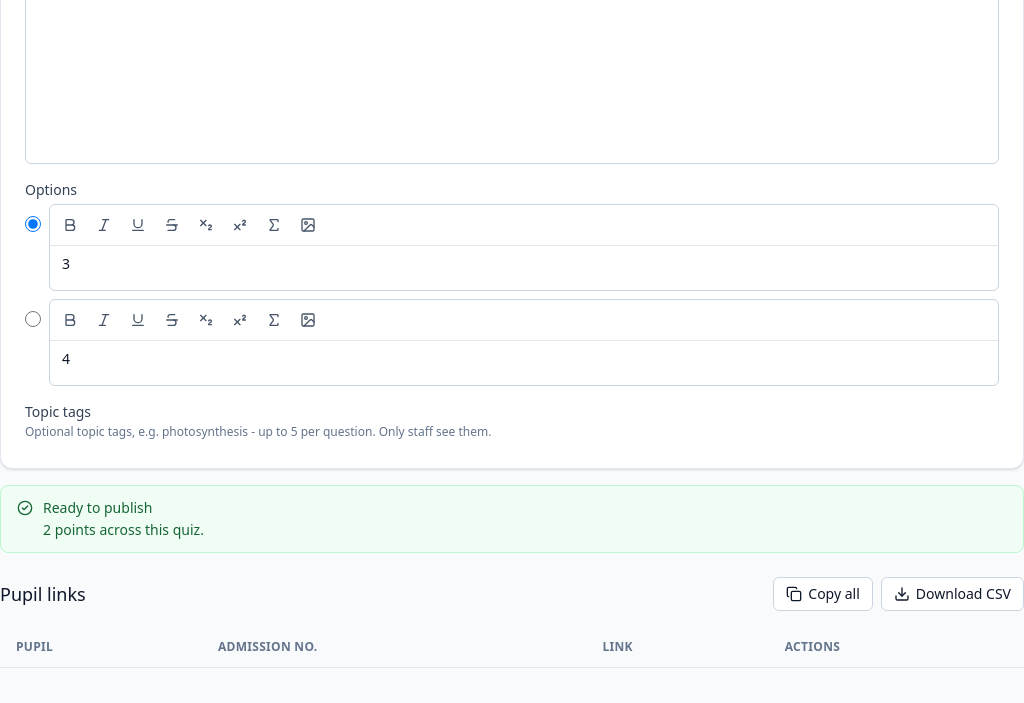
TakeHomeQuizEditorPage - correcting the answer key once pupils have submitted › confirms a wording-only correction without re-scoring
(page scrolled)
Click the radio button named "Option 2 is correct": [33, 319] box [25,311,41,327]
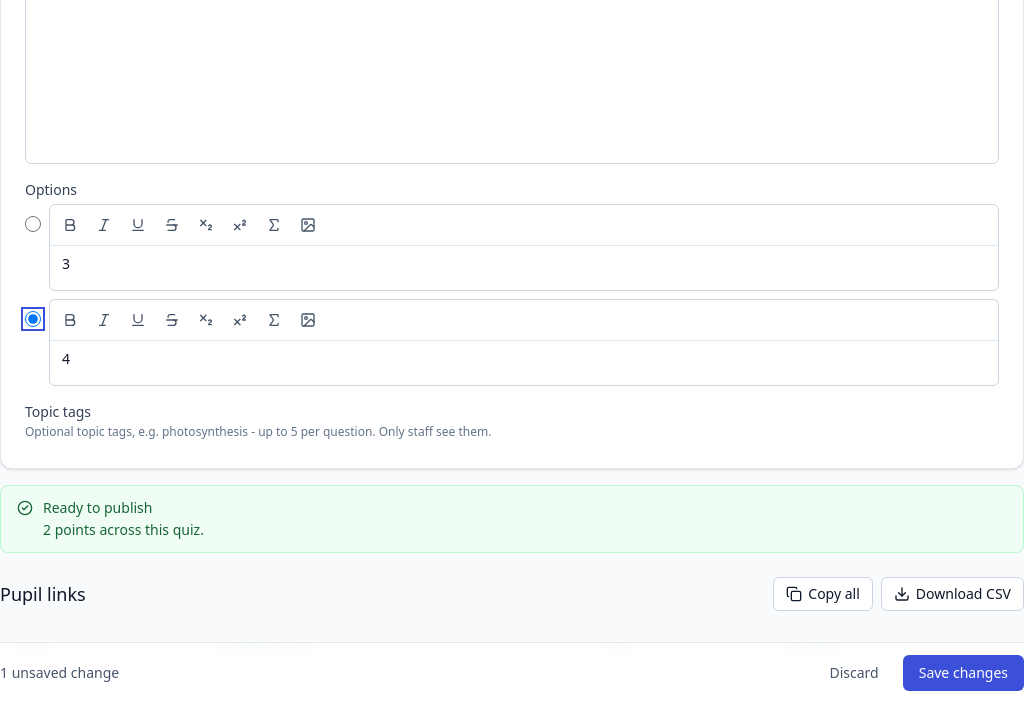
Click the button "Save changes": [963, 673] box [903,655,1023,691]
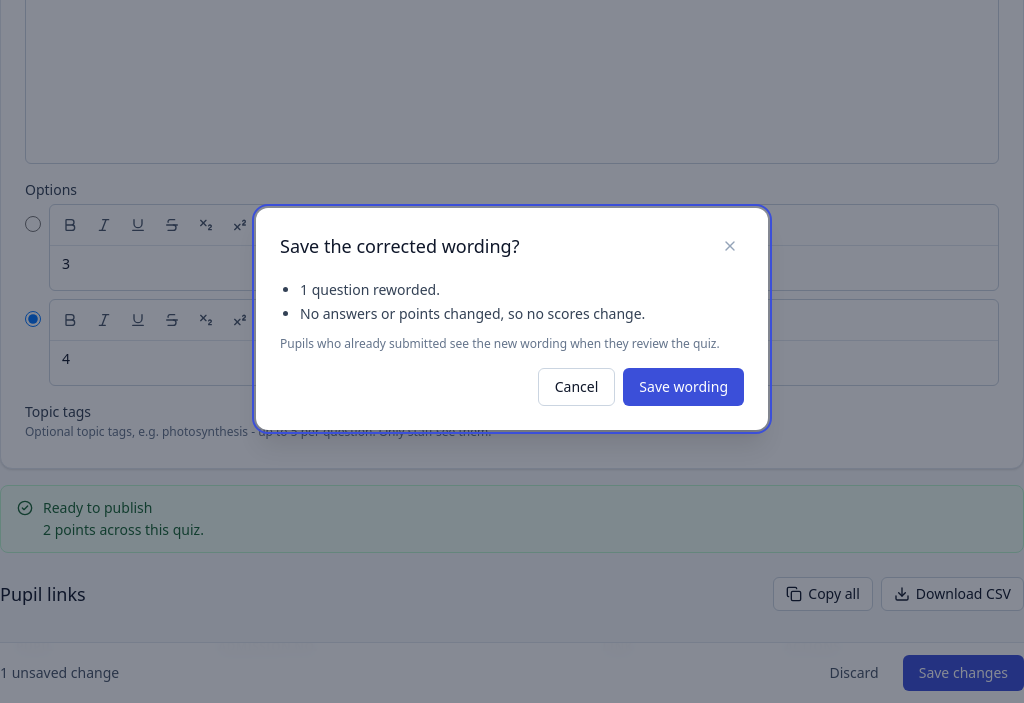
Check: the list item "No answers or points changed, so no scores change." is shown, box [300,304,645,323]
Click the button "Save wording": [684, 387] box [623,368,744,406]
(page scrolled)
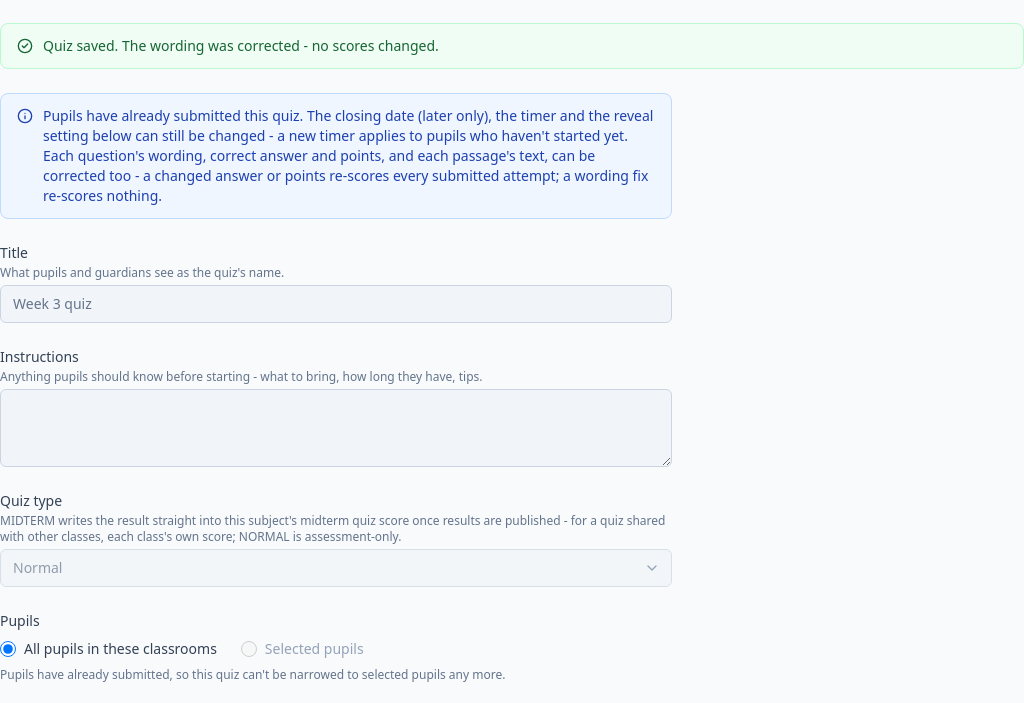
Check: the text "Quiz saved. The wording was corrected - no scores changed." is shown, box [43,36,439,56]
